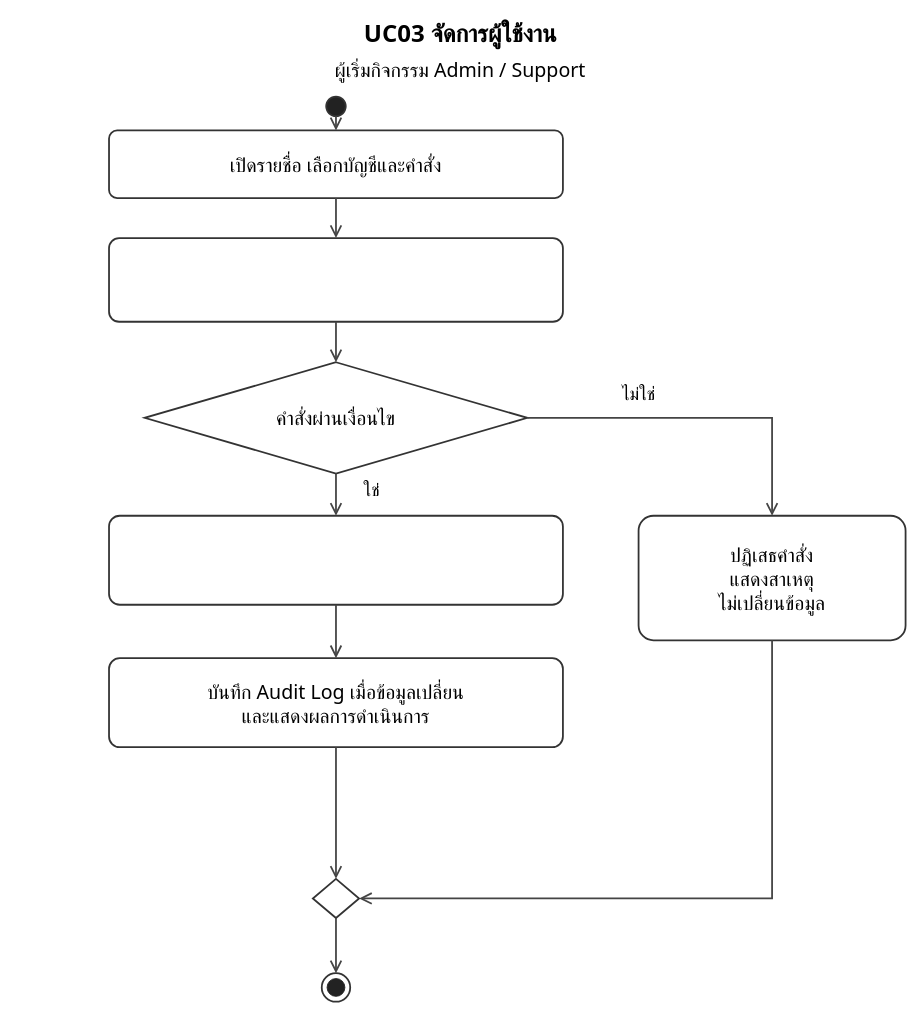
This 921x1017 diagram has some shape labels left out. The shapes that lost their labels are listed below. From the top down, each one's box as (x1, y1, x2, y2) in pixels, then its label:
(108, 237, 563, 322): ตรวจบทบาทผู้ดำเนินการ และข้อจำกัดของคำสั่งต่อบัญชีเป้าหมาย
(108, 514, 563, 605): อนุมัติ ปฏิเสธ หรือปรับบัญชีตามคำสั่ง ปฏิเสธคำขอสมัครใช้การลบบัญชี pending
